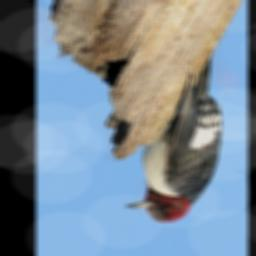Woodpecker: (124, 56, 222, 223)
